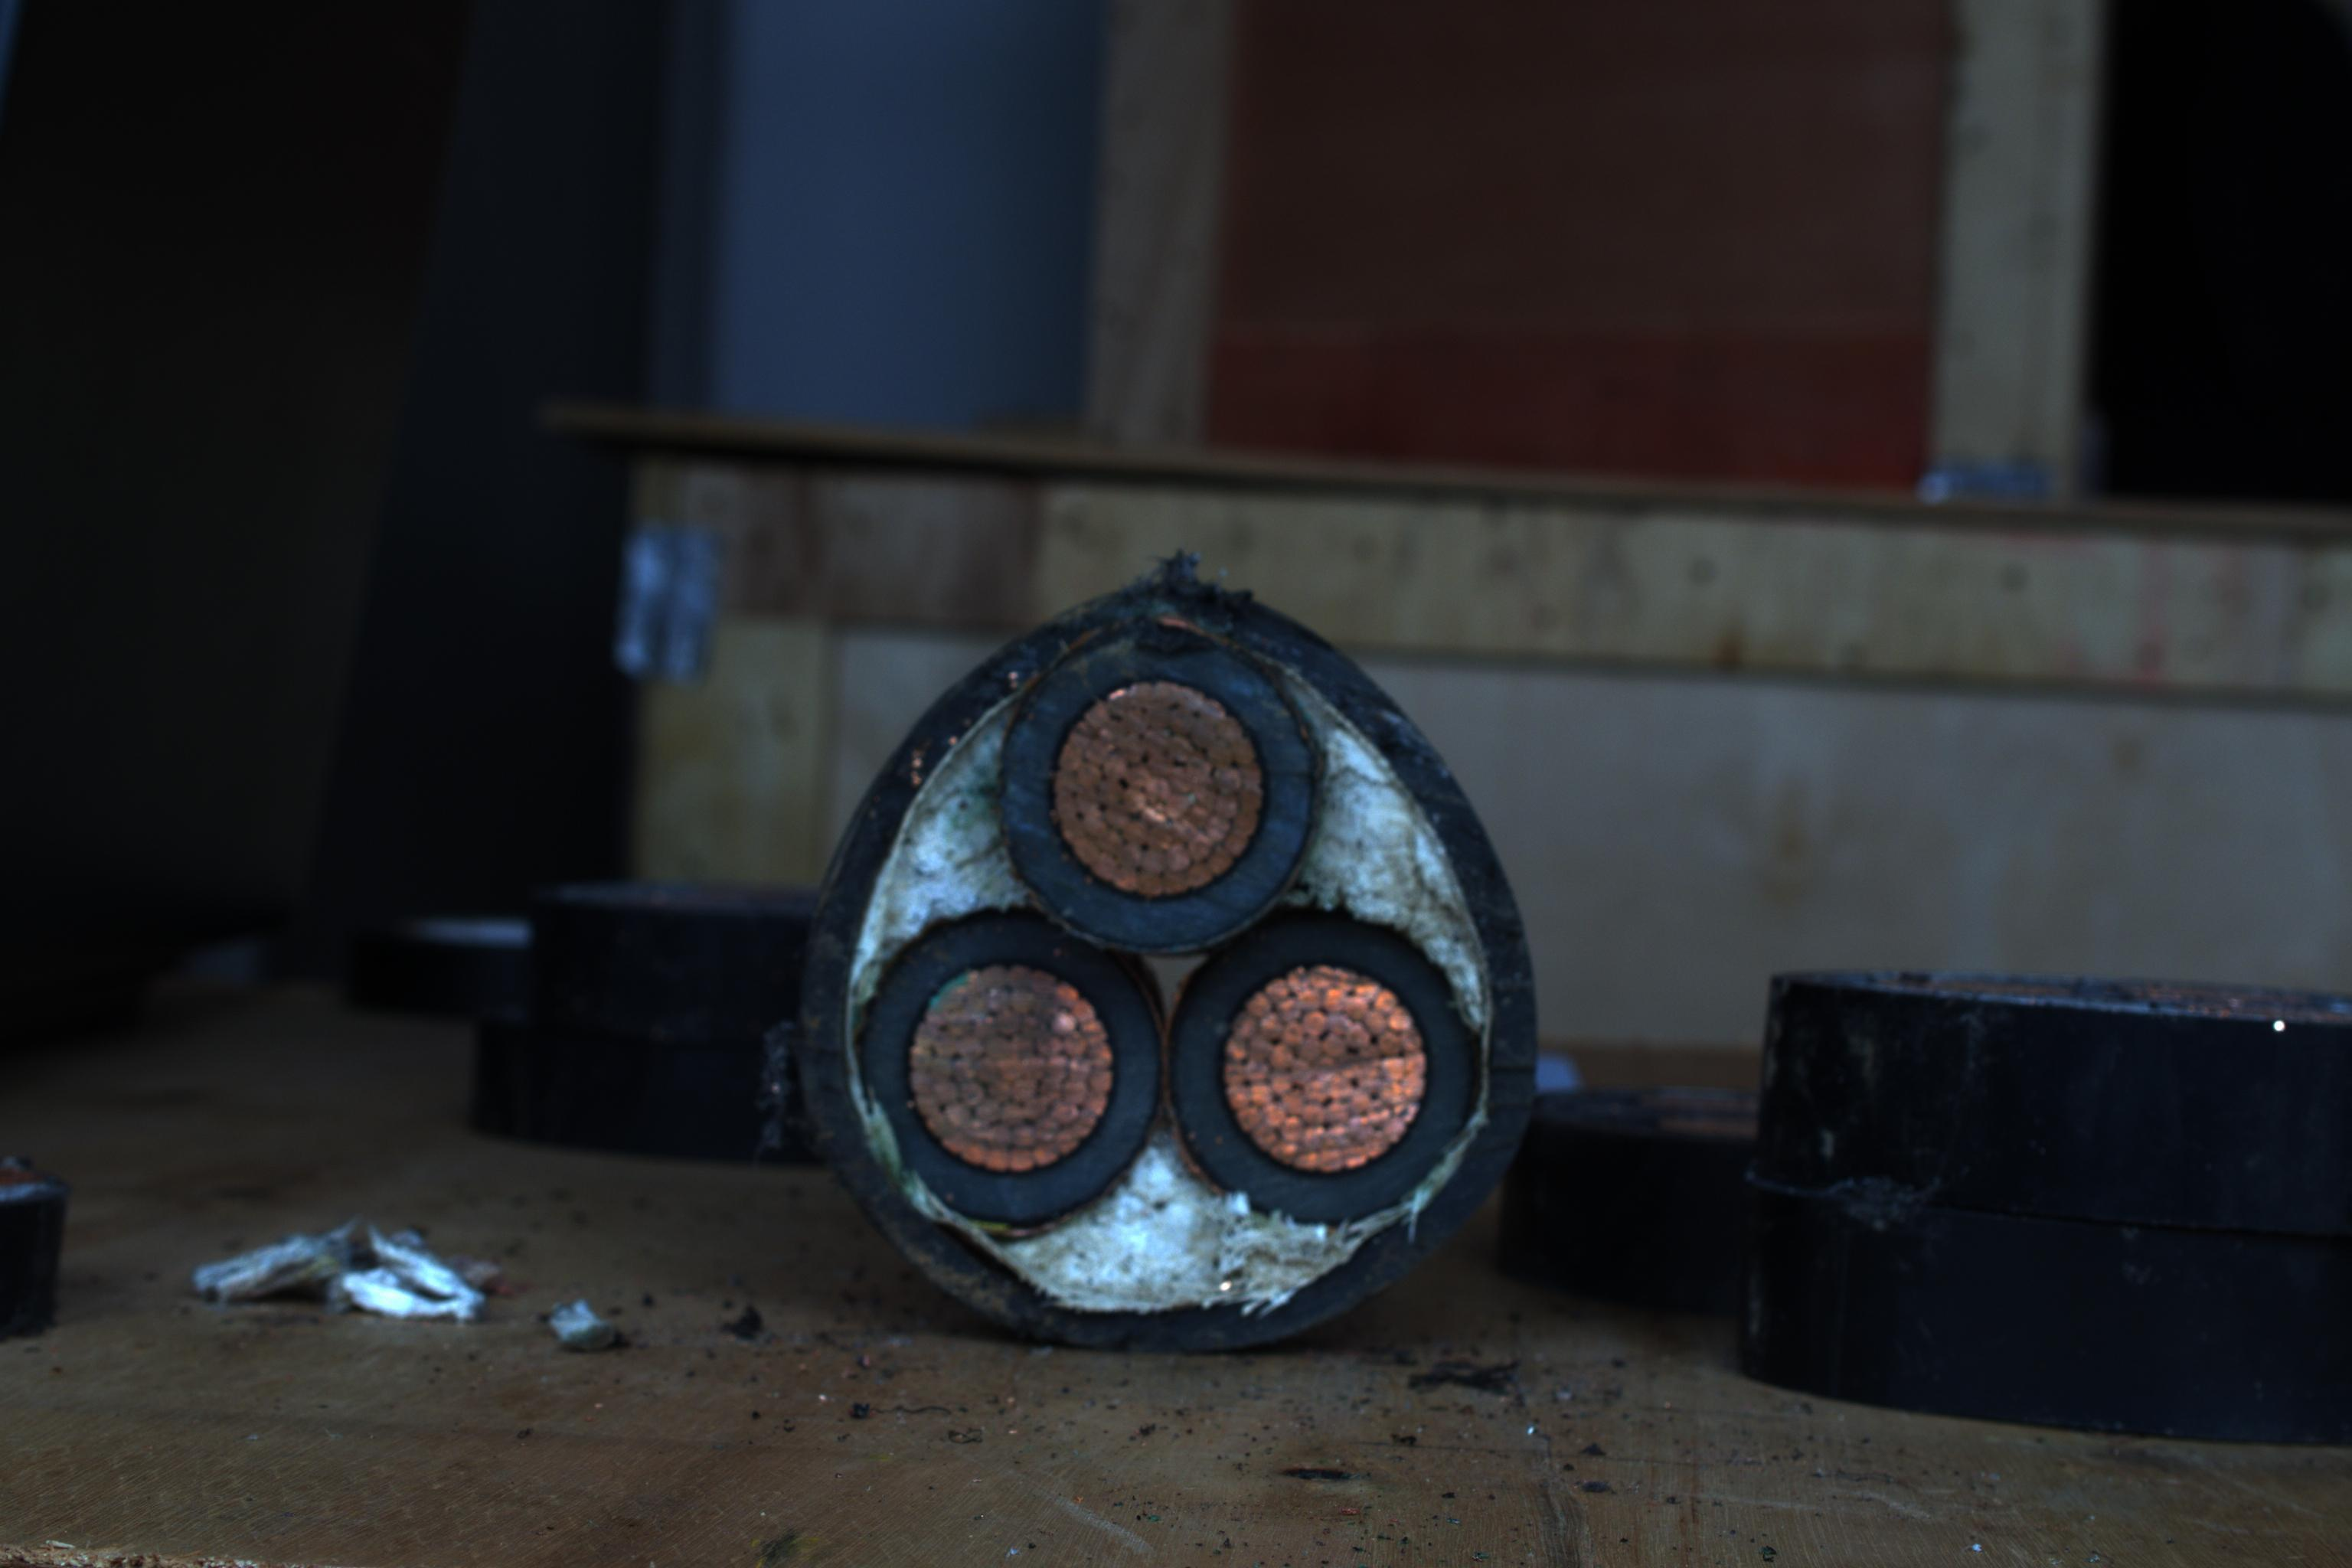ZA_YJV_8.7_10kV_3x400: (821, 595, 1508, 1337)
